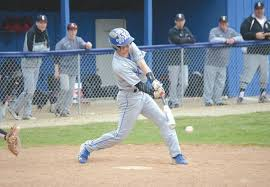baseball: (184, 125, 194, 135)
baseball bat: (159, 91, 177, 131)
baseball player: (76, 26, 194, 166)
